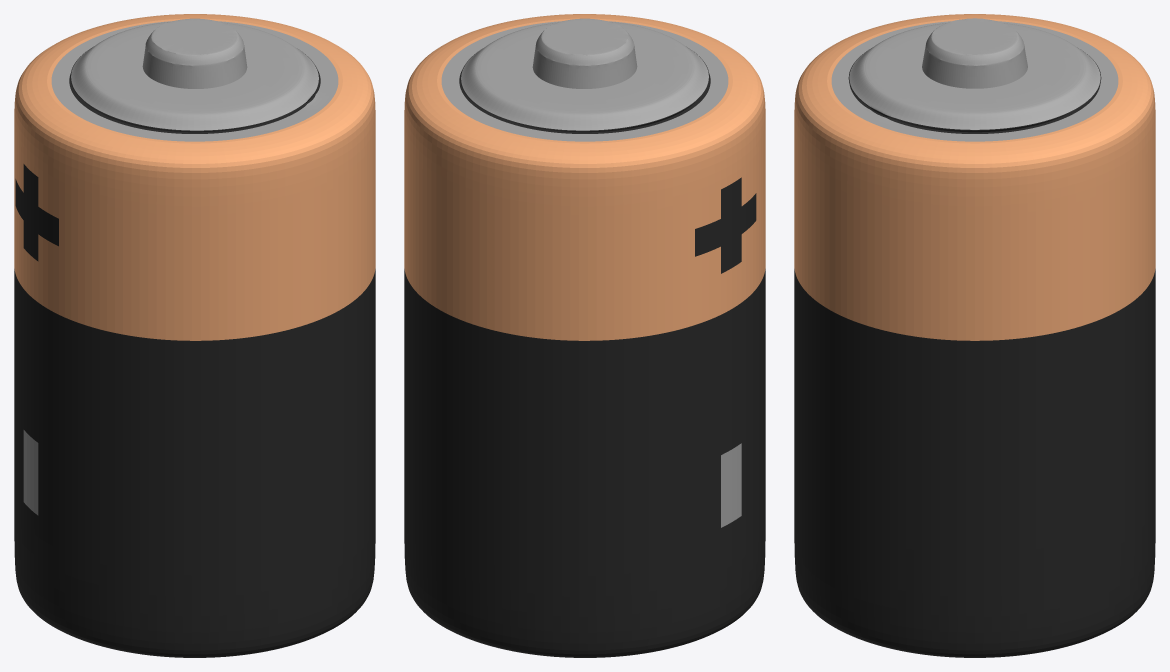
File: Батарейка1.fbx
3 renders of one model, left to right at view 1: azimuth 30°, elevation 25°; view 2: azimuth 150°, elevation 25°; view 3: azimuth 270°, elevation 25°, orthographic.
Parts seen in each view (by area): view 1: Cylinder; view 2: Cylinder; view 3: Cylinder.
Boxes of the visible parts, x1,y1,x2,y2 form: Cylinder: (14, 14, 375, 657); Cylinder: (404, 14, 765, 657); Cylinder: (794, 14, 1155, 657).
Size of the model in its own units: 253 by 425 by 253.
